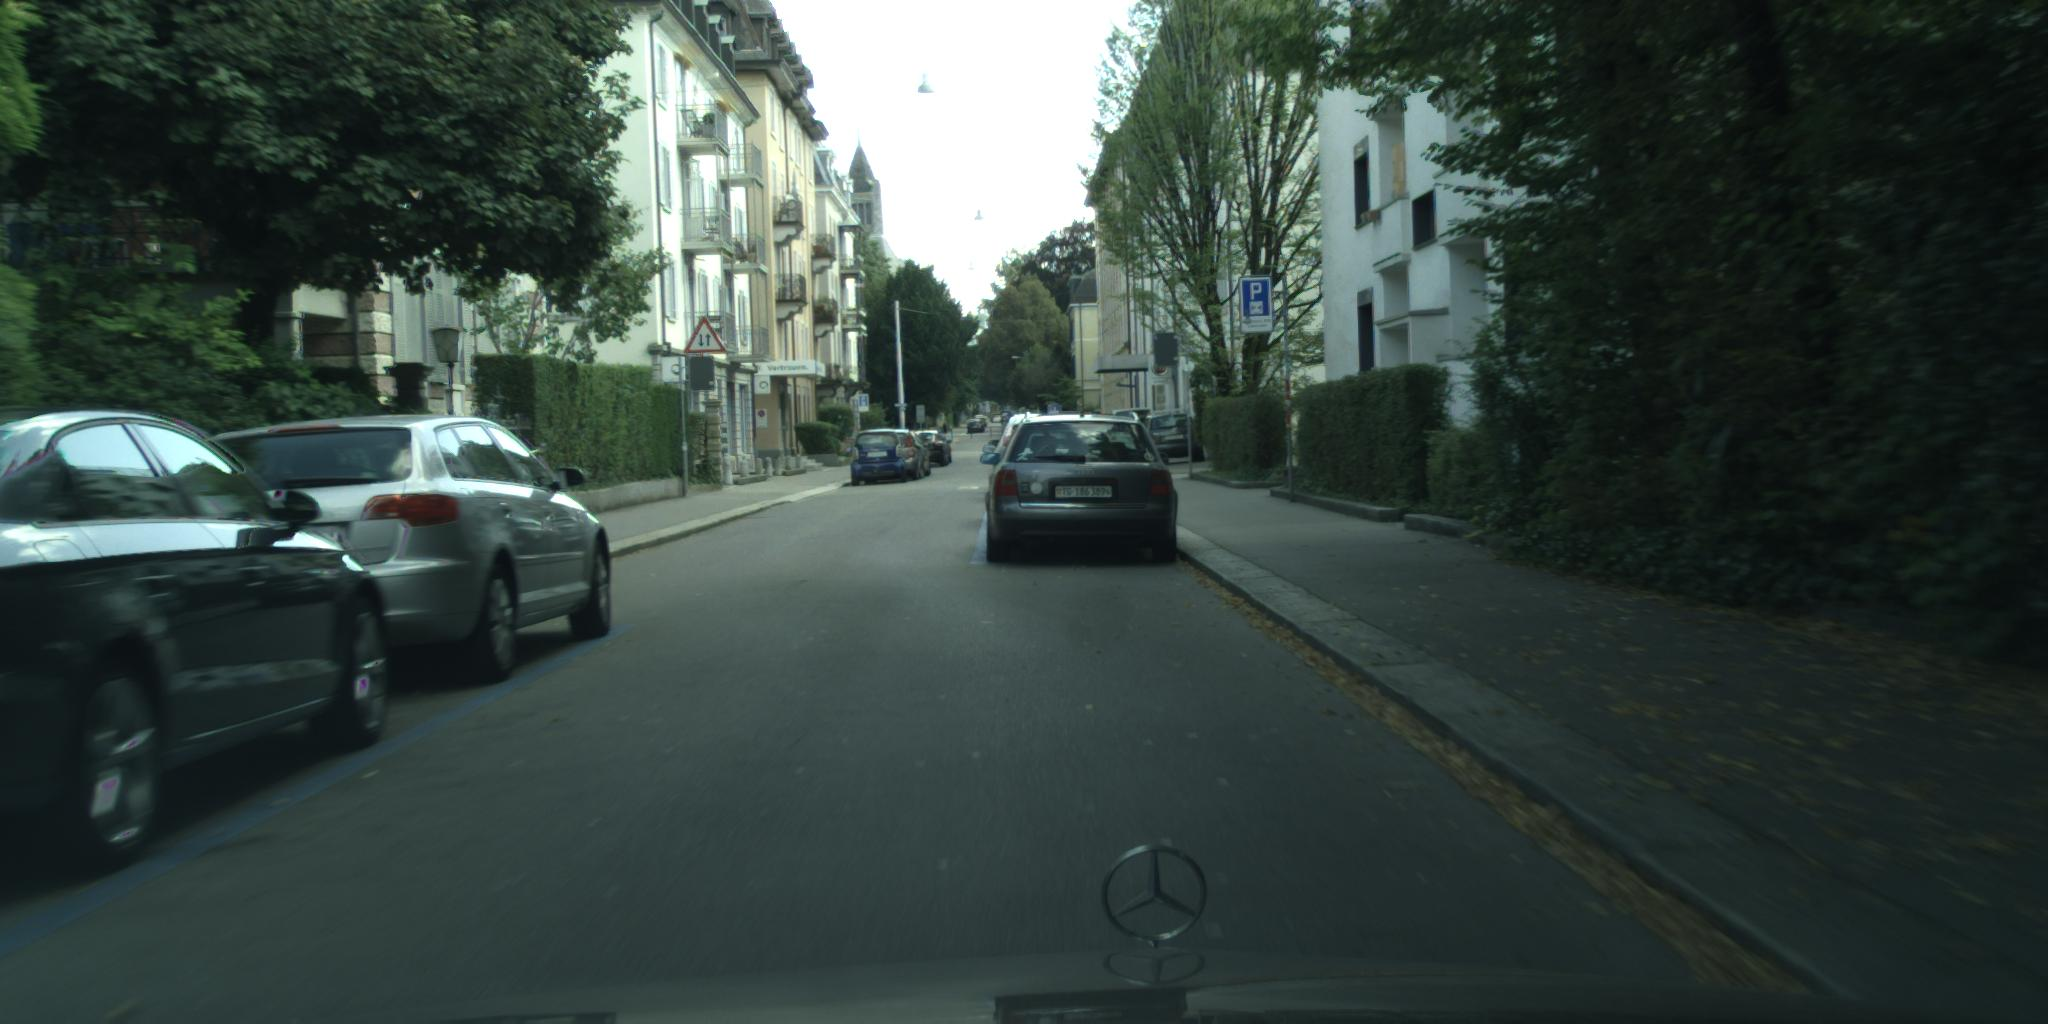car: (3, 411, 393, 887), (216, 415, 615, 684), (984, 410, 1182, 567), (984, 415, 1091, 461), (1138, 413, 1208, 465), (852, 431, 909, 490), (882, 428, 934, 481), (903, 434, 953, 468), (1109, 408, 1155, 434), (967, 415, 990, 436)
